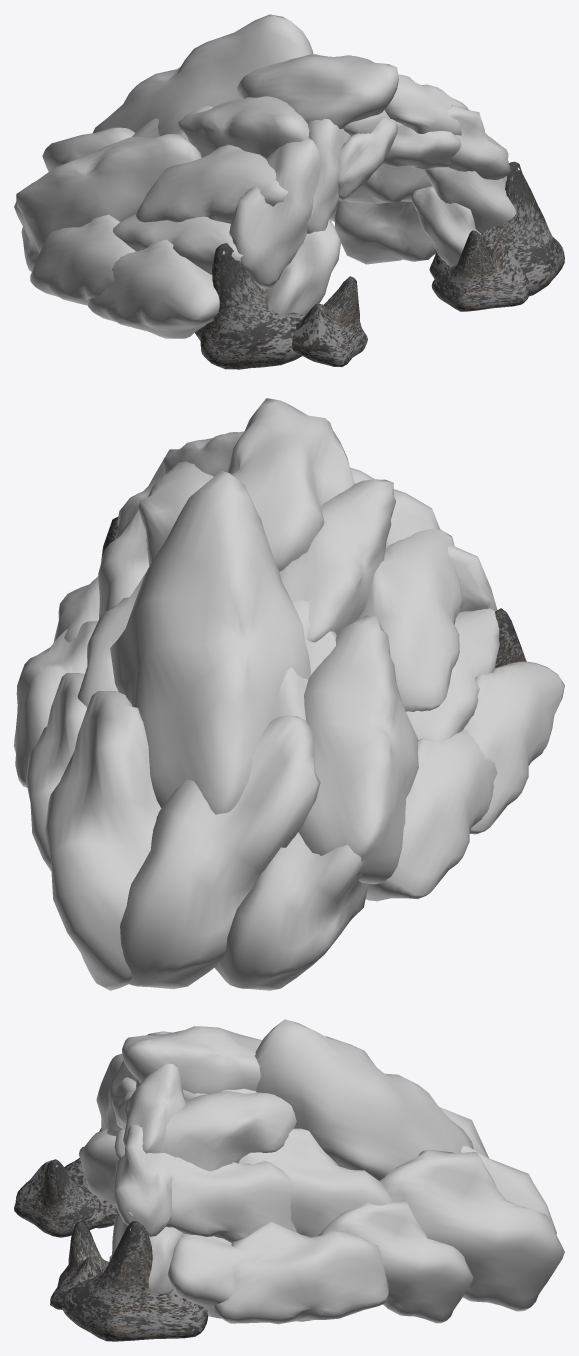
Rendered from environment_set_piece_1_base_001.fbx.
3 views of the same model, one above another, from view 1: azimuth 30°, elevation 25°; view 2: azimuth 150°, elevation 25°; view 3: azimuth 270°, elevation 25° (orthographic). The views are drawn at different scales.
Parts seen in each view (by area): view 1: polySurface67; view 2: polySurface67; view 3: polySurface67.
Part boxes in pixels (x1=…): polySurface67: x1=14, y1=14, x2=564, y2=369; polySurface67: x1=14, y1=398, x2=564, y2=990; polySurface67: x1=14, y1=1019, x2=564, y2=1341.
Bounding box in the file's own units: 2121 × 1554 × 2565.
